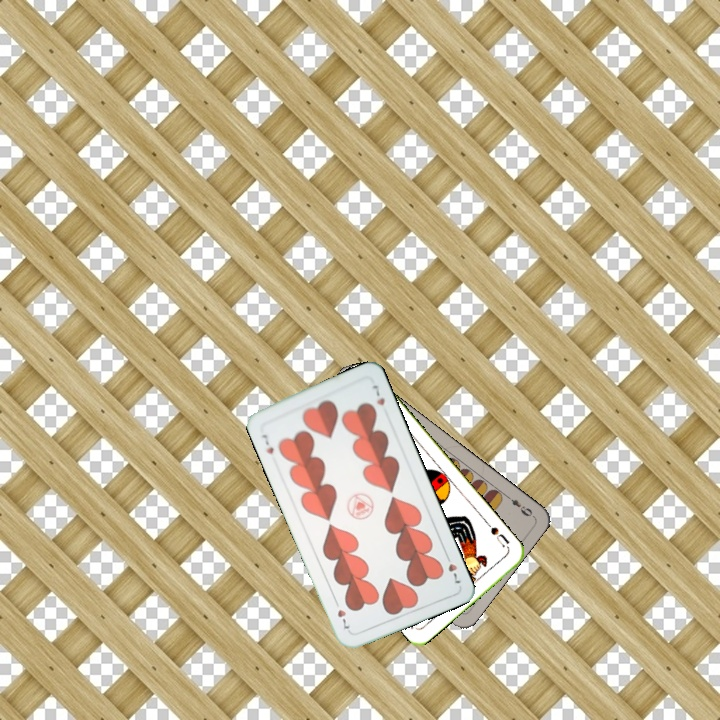E9: (501, 490, 535, 519)
H7: (441, 549, 464, 587), (258, 430, 276, 456)
SU: (482, 518, 512, 550)
